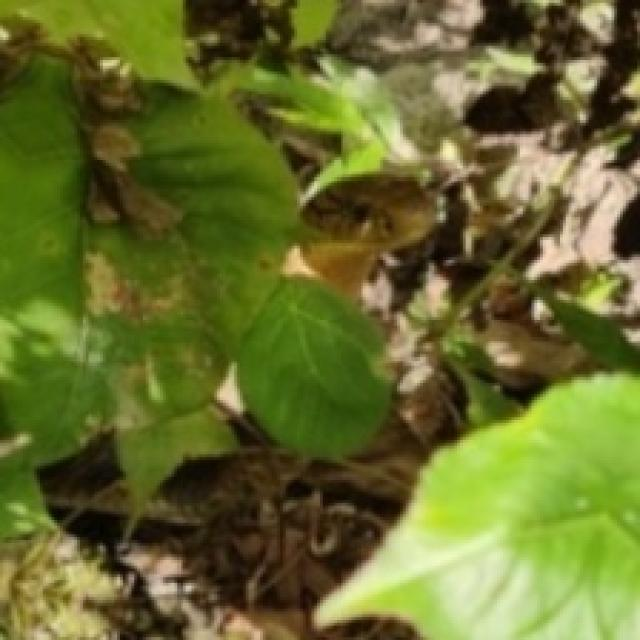king cobra: (0, 0, 197, 89)
